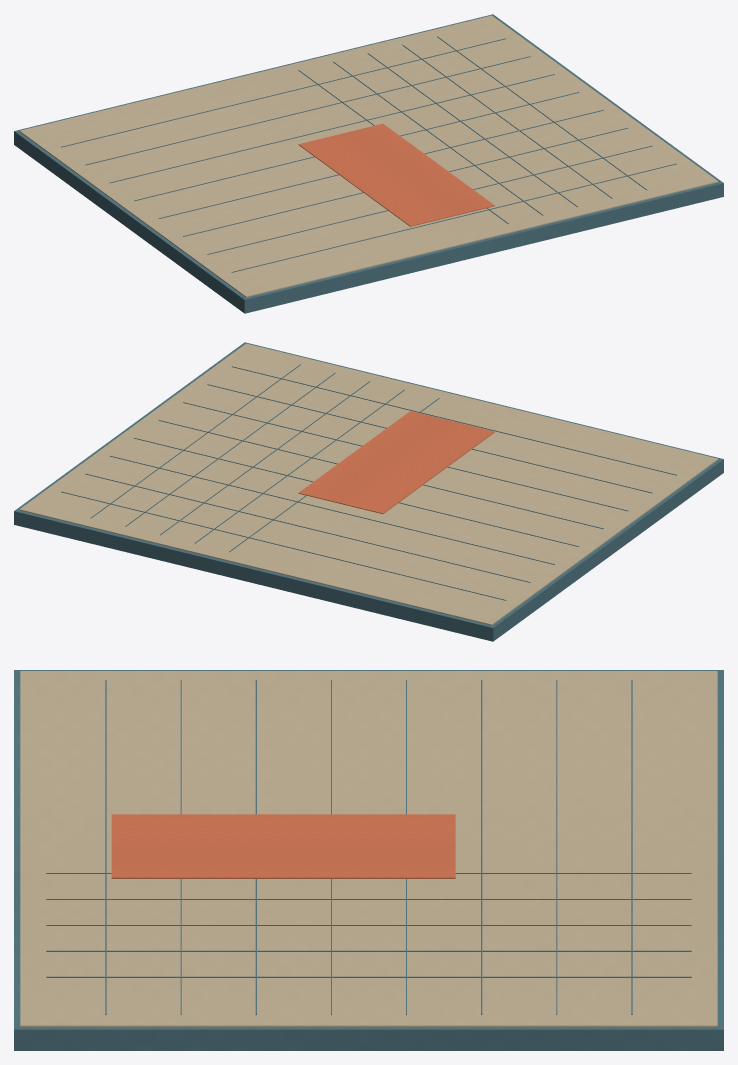
Rendered from atlas100-s046-a07.lod2.glb.
3 renders of one model, top to bottom at view 1: azimuth 30°, elevation 25°; view 2: azimuth 150°, elevation 25°; view 3: azimuth 270°, elevation 25°, orthographic. The views are drawn at different scales.
Visible parts, largest first — view 1: atlas100-s046-a07:part-001, atlas100-s046-a07:part-000, atlas100-s046-a07:part-021, atlas100-s046-a07:part-020, atlas100-s046-a07:part-014, atlas100-s046-a07:part-013, atlas100-s046-a07:part-015, atlas100-s046-a07:part-016, atlas100-s046-a07:part-018, atlas100-s046-a07:part-019, atlas100-s046-a07:part-017; view 2: atlas100-s046-a07:part-001, atlas100-s046-a07:part-000, atlas100-s046-a07:part-021, atlas100-s046-a07:part-013, atlas100-s046-a07:part-014, atlas100-s046-a07:part-015, atlas100-s046-a07:part-020, atlas100-s046-a07:part-017, atlas100-s046-a07:part-019, atlas100-s046-a07:part-018, atlas100-s046-a07:part-016; view 3: atlas100-s046-a07:part-001, atlas100-s046-a07:part-000, atlas100-s046-a07:part-021, atlas100-s046-a07:part-011, atlas100-s046-a07:part-012, atlas100-s046-a07:part-013, atlas100-s046-a07:part-014, atlas100-s046-a07:part-015, atlas100-s046-a07:part-020, atlas100-s046-a07:part-010, atlas100-s046-a07:part-009.
Part boxes in pixels (x1,y1,x2,y2): atlas100-s046-a07:part-001: (19,15,718,297); atlas100-s046-a07:part-000: (14,14,723,313); atlas100-s046-a07:part-021: (298,123,494,226); atlas100-s046-a07:part-020: (231,163,676,272); atlas100-s046-a07:part-014: (85,56,530,165); atlas100-s046-a07:part-013: (61,38,505,147); atlas100-s046-a07:part-015: (110,74,554,183); atlas100-s046-a07:part-016: (134,92,579,201); atlas100-s046-a07:part-018: (183,127,627,236); atlas100-s046-a07:part-019: (207,145,652,254); atlas100-s046-a07:part-017: (158,110,603,218); atlas100-s046-a07:part-001: (19,343,718,625); atlas100-s046-a07:part-000: (14,342,723,641); atlas100-s046-a07:part-021: (298,411,494,513); atlas100-s046-a07:part-013: (61,491,506,600); atlas100-s046-a07:part-014: (85,473,530,582); atlas100-s046-a07:part-015: (110,455,554,564); atlas100-s046-a07:part-020: (232,366,676,475); atlas100-s046-a07:part-017: (158,420,603,529); atlas100-s046-a07:part-019: (207,384,652,493); atlas100-s046-a07:part-018: (183,402,627,511); atlas100-s046-a07:part-016: (134,438,579,546); atlas100-s046-a07:part-001: (20,671,717,1026); atlas100-s046-a07:part-000: (14,670,723,1050); atlas100-s046-a07:part-021: (111,814,455,878); atlas100-s046-a07:part-011: (46,950,691,951); atlas100-s046-a07:part-012: (46,976,691,977); atlas100-s046-a07:part-013: (631,680,632,1014); atlas100-s046-a07:part-014: (556,680,557,1014); atlas100-s046-a07:part-015: (481,680,482,1014); atlas100-s046-a07:part-020: (105,680,106,1014); atlas100-s046-a07:part-010: (46,925,691,925); atlas100-s046-a07:part-009: (46,899,691,899).
Bounding box in the file's own units: 12.46 × 0.404 × 10.4.
3 materials, 3 textured.
